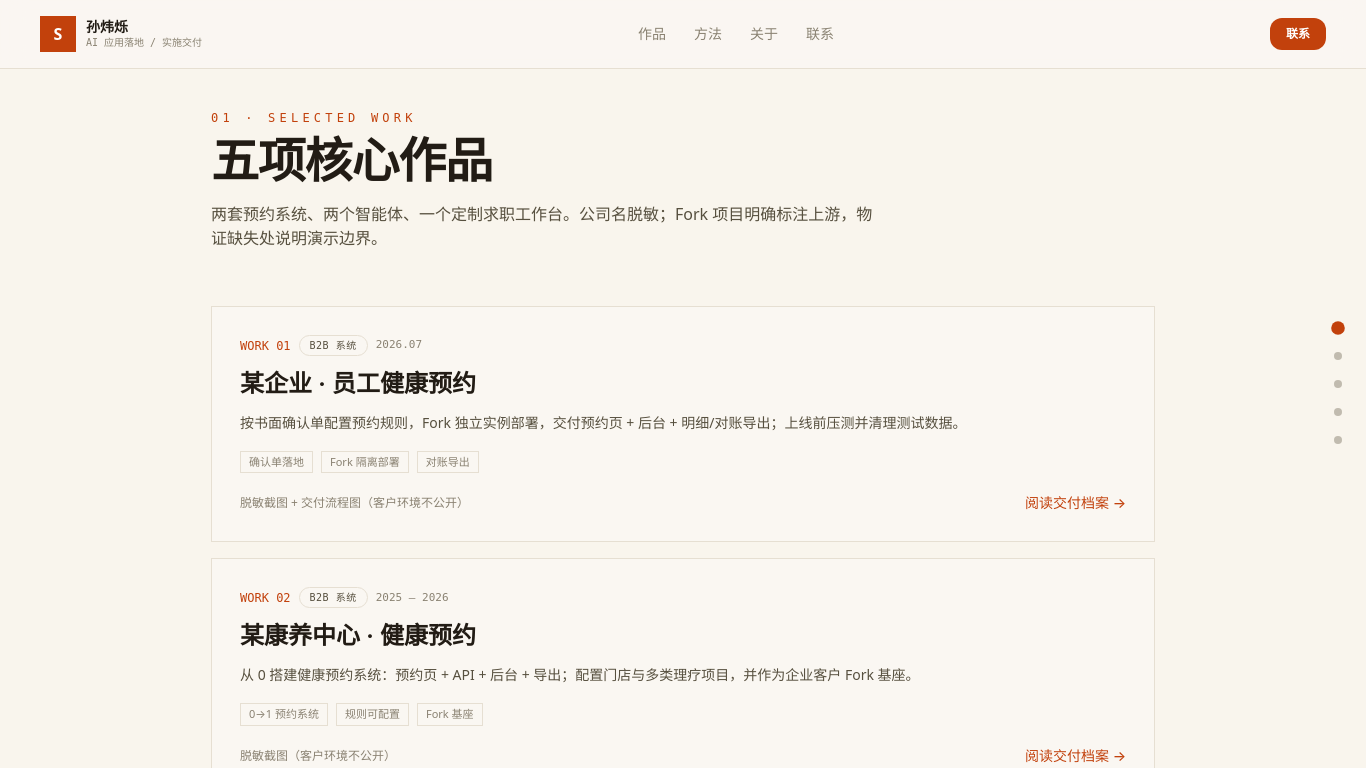
Scenario: App 单页路由 › 详情页返回后主页章节重现
The width and height of the screenshot is (1366, 768).
(page scrolled)
Click the link "WORK 01".
click(683, 424)  # box [211,306,1155,542]
(page scrolled)
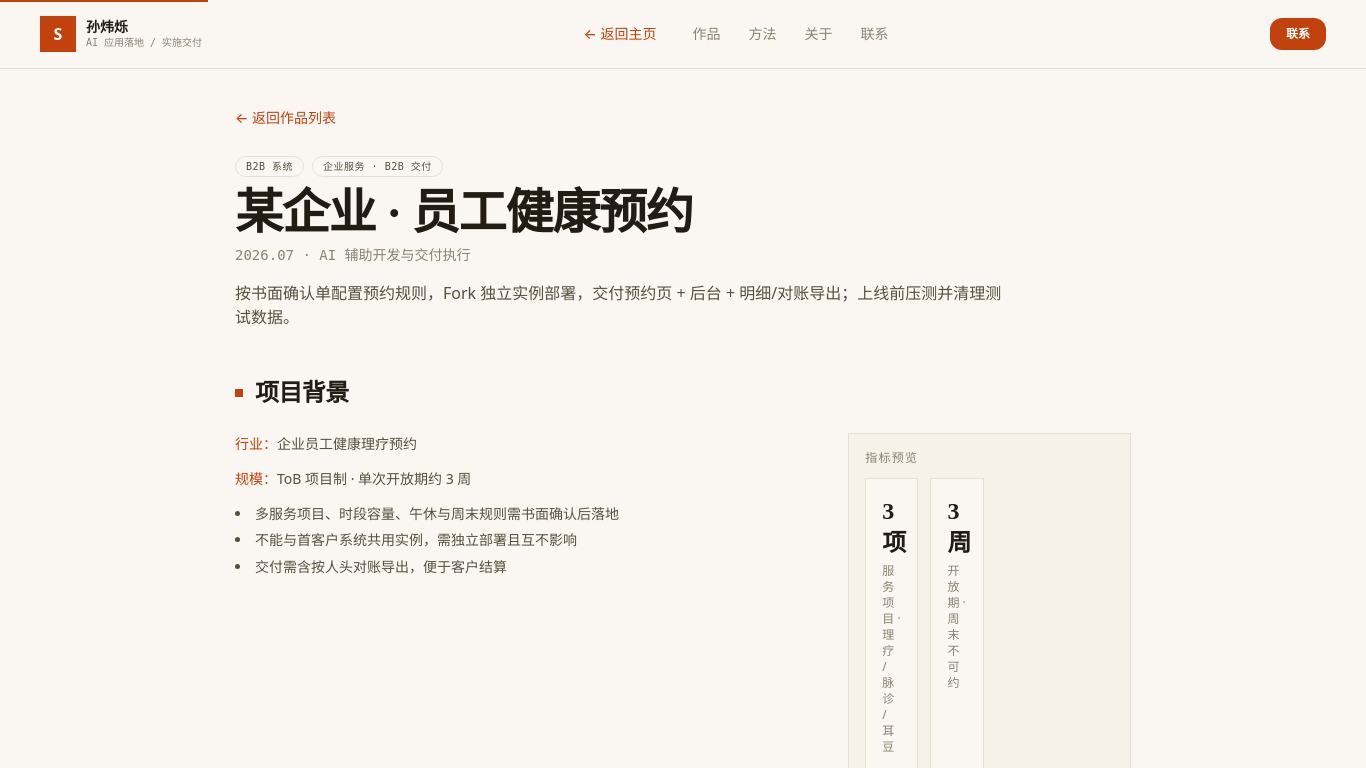
Click the link "← 返回作品列表".
click(286, 118)  # box [235,108,336,127]
(page scrolled)
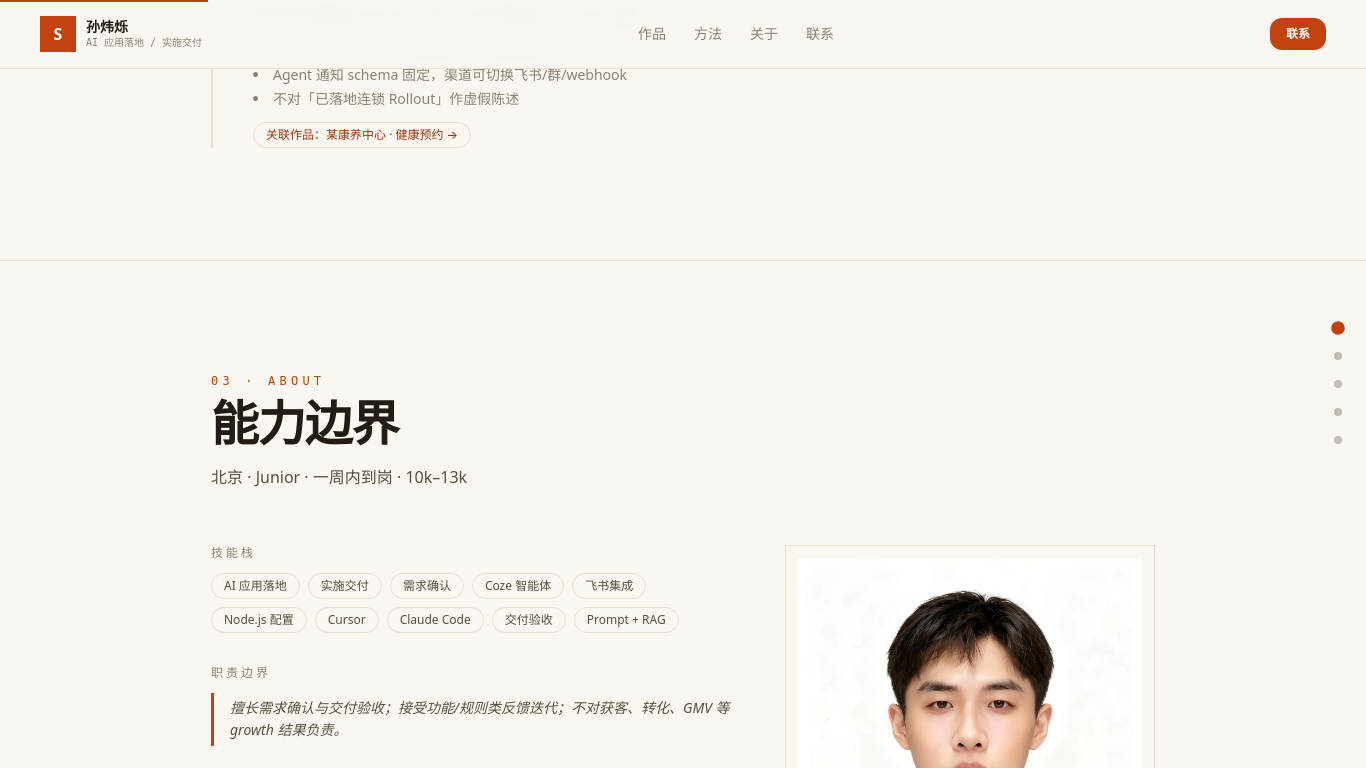
expect the heading "能力边界" is shown: met, box [211,398,398,450]
